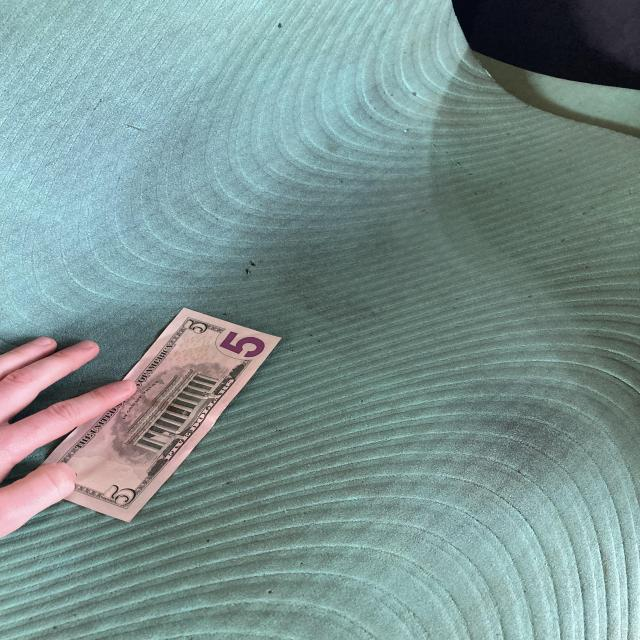five: (25, 269, 283, 551)
